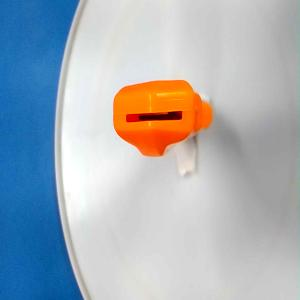estilete: (112, 79, 213, 159)
